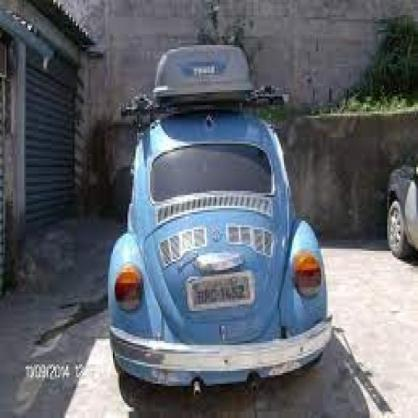car: (106, 42, 333, 401)
